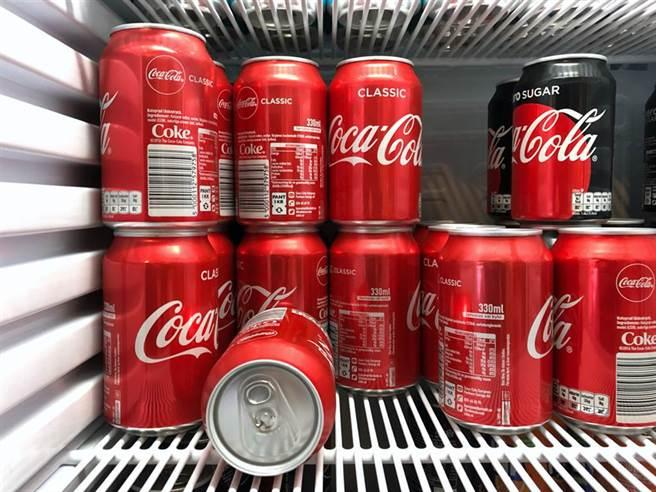metal: (87, 221, 421, 477), (95, 22, 422, 226), (429, 213, 656, 436), (482, 53, 616, 219)
